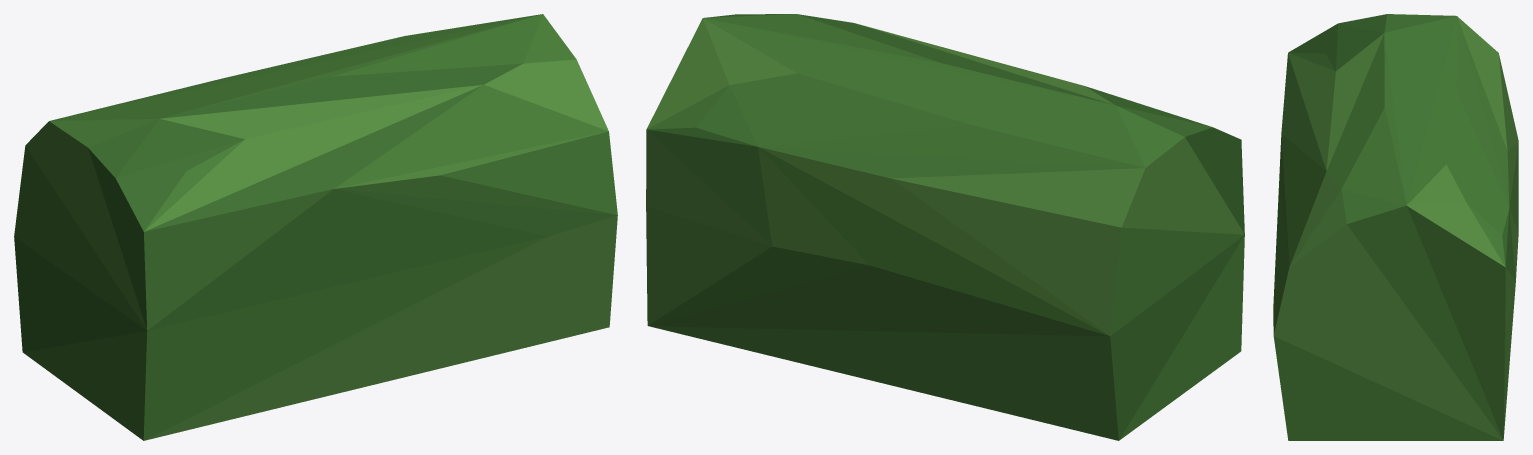
The model's file is shrub_hedge.glb.
3 renders of one model, left to right at view 1: azimuth 30°, elevation 25°; view 2: azimuth 150°, elevation 25°; view 3: azimuth 270°, elevation 25°, orthographic. The views are drawn at different scales.
Visible parts, largest first — view 1: shrub_hedge; view 2: shrub_hedge; view 3: shrub_hedge.
Part boxes in pixels (x1,y1,x2,y2): shrub_hedge: (14,14,617,440); shrub_hedge: (646,14,1244,440); shrub_hedge: (1273,14,1518,440).
Size of the model in its own units: 2 by 1.09 by 1.03.
